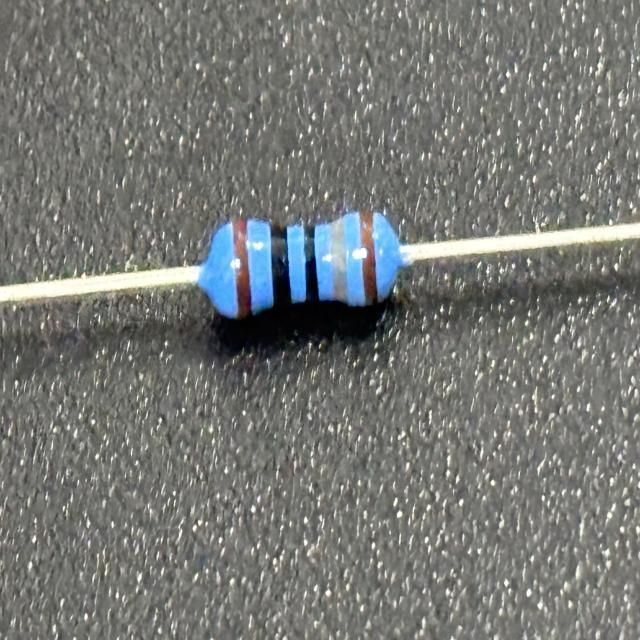resistor: (209, 204, 400, 322)
